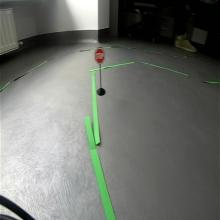stop: (95, 47, 105, 64)
